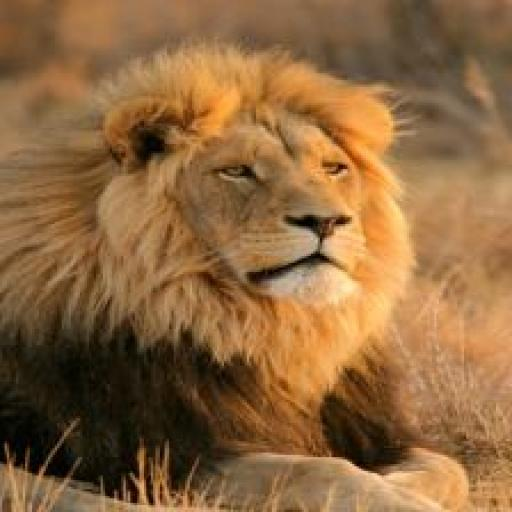lion: (62, 46, 433, 348)
